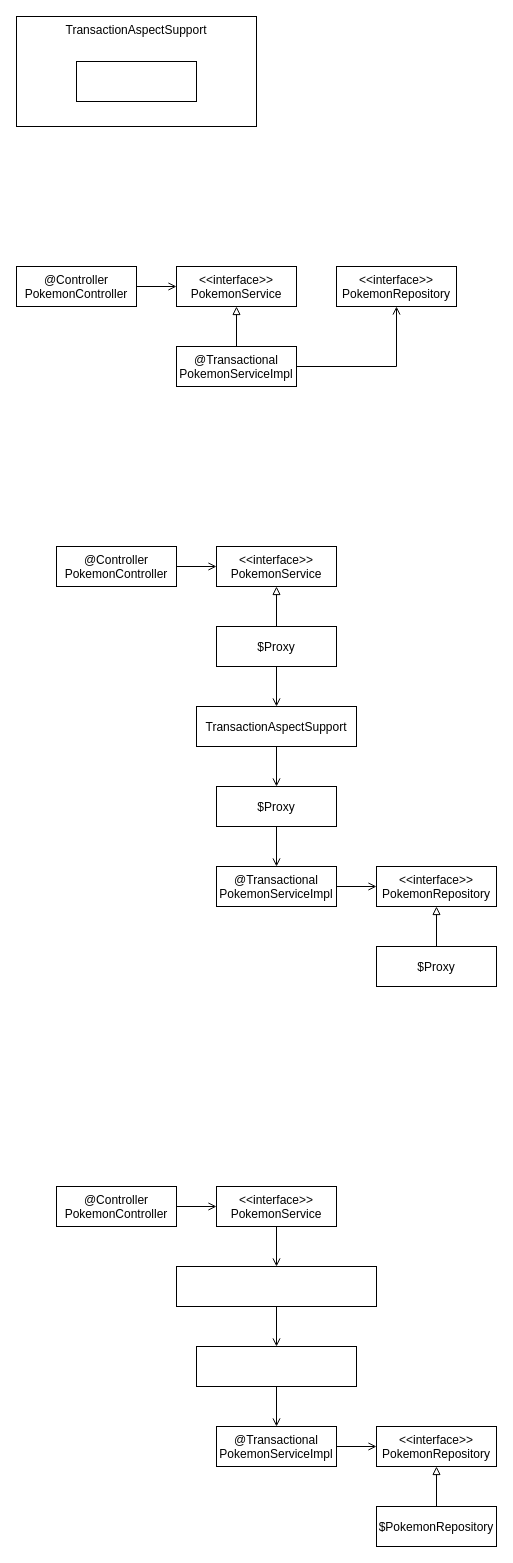
This 513x1563 diagram has some shape labels left out. The centre of each missing label's shape, as x and y in pixels:
$PokemonServiceImpl$Intercepted: point (276, 1286)
@Transactional MonService: point (136, 81)
TransactionalInterceptor: point (276, 1366)
